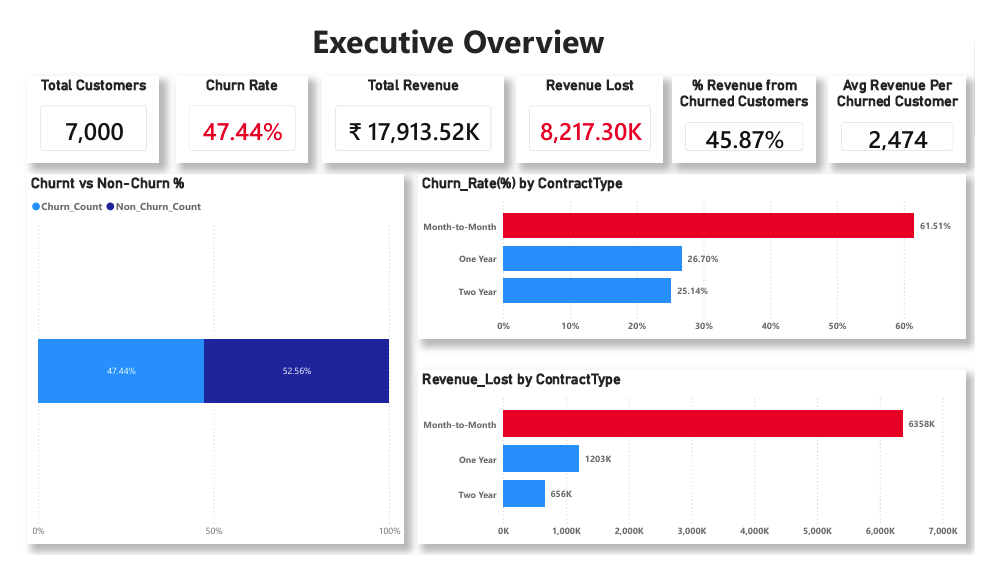

The dashboard page shown, as its layout file describes it:
{"tool":"powerbi","page":{"name":"Page 1","canvas":[1280,720],"ordinal":0},"visuals":[{"type":"cardVisual","title":"Total Customers","fields":{"Data":["telecom_customer_churn_dataset.Total_Customers"]},"box":[16.8,82.3,176.4,115.9],"z":0},{"type":"cardVisual","title":"Churn Rate","fields":{"Data":["telecom_customer_churn_dataset.Churn_Rate(%)"]},"box":[215,82.3,176.4,115.9],"z":1000},{"type":"cardVisual","title":"Total Revenue","fields":{"Data":["telecom_customer_churn_dataset.Total_Revenue"]},"box":[409.9,82.3,241.9,115.9],"z":2000},{"type":"cardVisual","title":"Revenue Lost","fields":{"Data":["telecom_customer_churn_dataset.Revenue_Lost"]},"box":[668.6,82.3,196.5,115.9],"z":3000},{"type":"cardVisual","title":"% Revenue from Churned Customers","fields":{"Data":["telecom_customer_churn_dataset.Revenue_at_Risk(%)"]},"box":[876.9,82.3,191.5,115.9],"z":4000},{"type":"cardVisual","title":"Avg Revenue Per Churned Customer","fields":{"Data":["telecom_customer_churn_dataset.Avg_Revenue_per_churn_customer"]},"box":[1085.1,82.3,183.1,115.9],"z":5000},{"type":"hundredPercentStackedBarChart","title":"Churnt vs Non-Churn %","fields":{"Y":["telecom_customer_churn_dataset.Churn_Count","telecom_customer_churn_dataset.Non_Churn_Count"]},"box":[16.8,213.3,502.3,492.2],"z":6000},{"type":"clusteredBarChart","fields":{"Y":["telecom_customer_churn_dataset.Churn_Rate(%)"],"Category":["telecom_customer_churn_dataset.ContractType"]},"box":[537.5,213.3,730.7,220.1],"z":7000},{"type":"clusteredBarChart","fields":{"Y":["telecom_customer_churn_dataset.Revenue_Lost"],"Category":["telecom_customer_churn_dataset.ContractType"]},"box":[537.5,473.7,730.7,231.8],"z":8000},{"type":"textbox","box":[391.4,0,485.5,68.9],"z":9000}]}

Visuals, with their boxes in screenshot pixels (x1, y1, x2, y2), scaled from the page's 1280x720 canvas onto the 985x566 screenshot:
"Total Customers" cardVisual: {"x1": 13, "y1": 65, "x2": 149, "y2": 156}
"Churn Rate" cardVisual: {"x1": 165, "y1": 65, "x2": 301, "y2": 156}
"Total Revenue" cardVisual: {"x1": 315, "y1": 65, "x2": 502, "y2": 156}
"Revenue Lost" cardVisual: {"x1": 515, "y1": 65, "x2": 666, "y2": 156}
"% Revenue from Churned Customers" cardVisual: {"x1": 675, "y1": 65, "x2": 822, "y2": 156}
"Avg Revenue Per Churned Customer" cardVisual: {"x1": 835, "y1": 65, "x2": 976, "y2": 156}
"Churnt vs Non-Churn %" hundredPercentStackedBarChart: {"x1": 13, "y1": 168, "x2": 399, "y2": 555}
clusteredBarChart - telecom_customer_churn_dataset.Churn_Rate(%) x telecom_customer_churn_dataset.ContractType: {"x1": 414, "y1": 168, "x2": 976, "y2": 341}
clusteredBarChart - telecom_customer_churn_dataset.Revenue_Lost x telecom_customer_churn_dataset.ContractType: {"x1": 414, "y1": 372, "x2": 976, "y2": 555}
textbox: {"x1": 301, "y1": 0, "x2": 675, "y2": 54}
